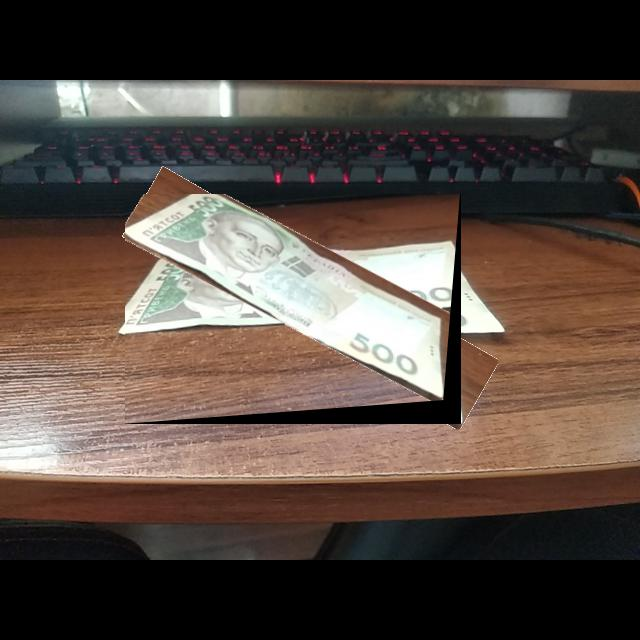500uah: (125, 194, 448, 406)
